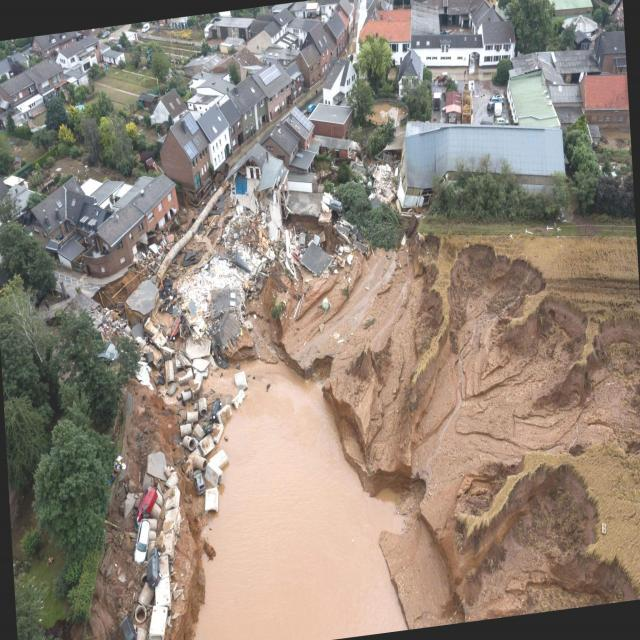flood: (160, 330, 409, 639)
